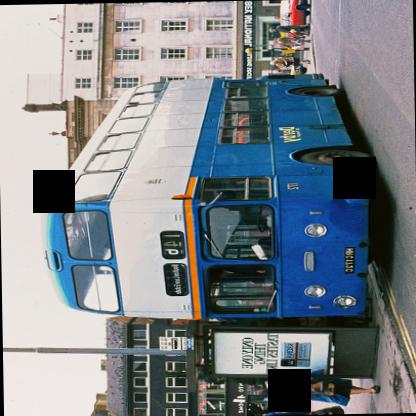handbag: (297, 379, 334, 394), (283, 59, 293, 66)
